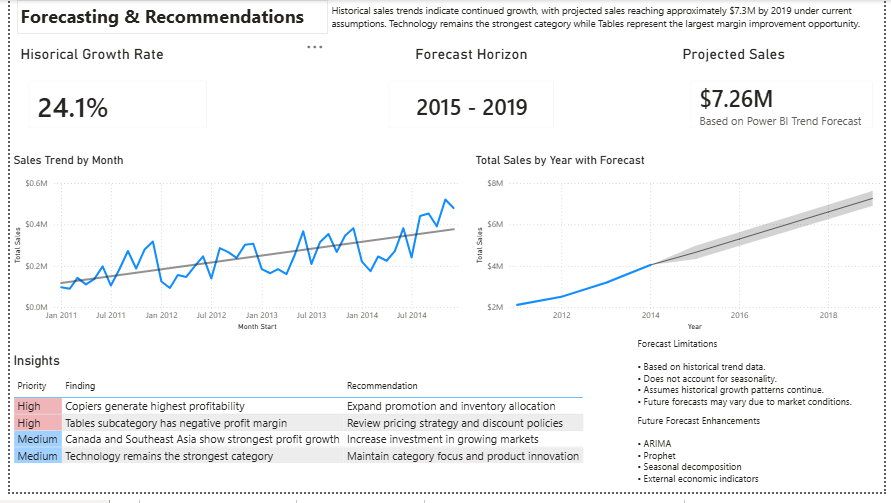

The page's visual inventory and layout, read from the dashboard file:
{"tool":"powerbi","page":{"name":"Forecasting & Recommendations","canvas":[1280,720],"ordinal":4},"visuals":[{"type":"textbox","box":[10.2,0,455.1,49.8],"z":0},{"type":"lineChart","title":"Total Sales by Year with Forecast","fields":{"Y":["_Measures.Total Sales"],"Category":["Dim_Date.Year Hierarchy.Year","Dim_Date.Year Hierarchy.Year-Quarter","Dim_Date.Year Hierarchy.Year-Month"]},"box":[676.1,223.9,604.4,264.9],"z":1000},{"type":"lineChart","title":"Sales Trend by Month","fields":{"Category":["Dim_Date.Month Start"],"Y":["_Measures.Total Sales"]},"box":[0,223.9,676.1,264.9],"z":2000},{"type":"textbox","box":[913.2,488.8,367.3,122.9],"z":3000},{"type":"cardVisual","title":"Hisorical Growth Rate","fields":{"Data":["_Measures.Historical Growth Rate"]},"box":[10.2,65.9,295.6,139],"z":4000},{"type":"cardVisual","title":"Forecast Horizon","fields":{"Data":["_Measures.Forecast Horizon"]},"box":[537.1,65.9,276.6,139],"z":5000},{"type":"cardVisual","title":"Projected Sales","fields":{"Data":["_Measures.Projected Sales"]},"box":[979,65.9,301.5,139],"z":6000},{"type":"tableEx","title":"Insights","fields":{"Values":["Recommendations.Priority","Recommendations.Finding","Recommendations.Recommendation"]},"box":[0,516.6,854.6,169.8],"z":7000},{"type":"textbox","box":[913.2,601.5,367.3,114.1],"z":8000},{"type":"textbox","box":[465.4,0,815.1,65.9],"z":9000}]}

Visuals, with their boxes in screenshot pixels (x1, y1, x2, y2), scaled from the page's 1280x720 canvas onto the 891x503 screenshot:
textbox: {"x1": 7, "y1": 0, "x2": 324, "y2": 35}
"Total Sales by Year with Forecast" lineChart: {"x1": 471, "y1": 156, "x2": 890, "y2": 341}
"Sales Trend by Month" lineChart: {"x1": 0, "y1": 156, "x2": 471, "y2": 341}
textbox: {"x1": 636, "y1": 341, "x2": 890, "y2": 427}
"Hisorical Growth Rate" cardVisual: {"x1": 7, "y1": 46, "x2": 213, "y2": 143}
"Forecast Horizon" cardVisual: {"x1": 374, "y1": 46, "x2": 566, "y2": 143}
"Projected Sales" cardVisual: {"x1": 681, "y1": 46, "x2": 890, "y2": 143}
"Insights" tableEx: {"x1": 0, "y1": 361, "x2": 595, "y2": 480}
textbox: {"x1": 636, "y1": 420, "x2": 890, "y2": 500}
textbox: {"x1": 324, "y1": 0, "x2": 890, "y2": 46}
